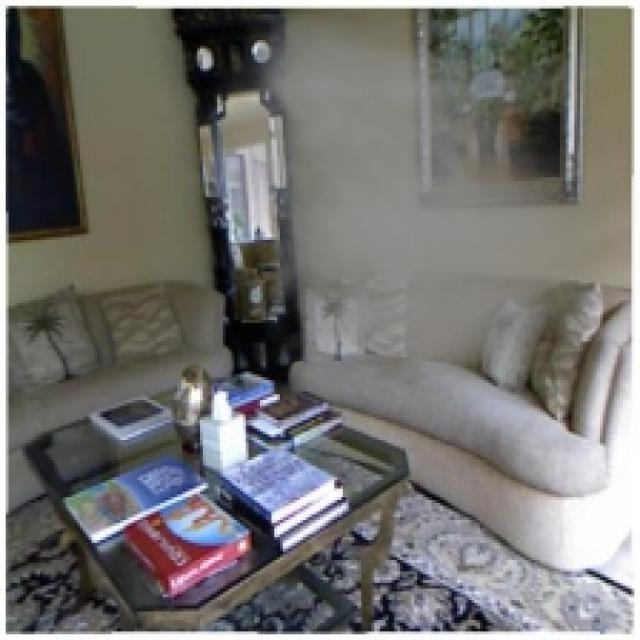Smoke: (175, 14, 600, 374)
